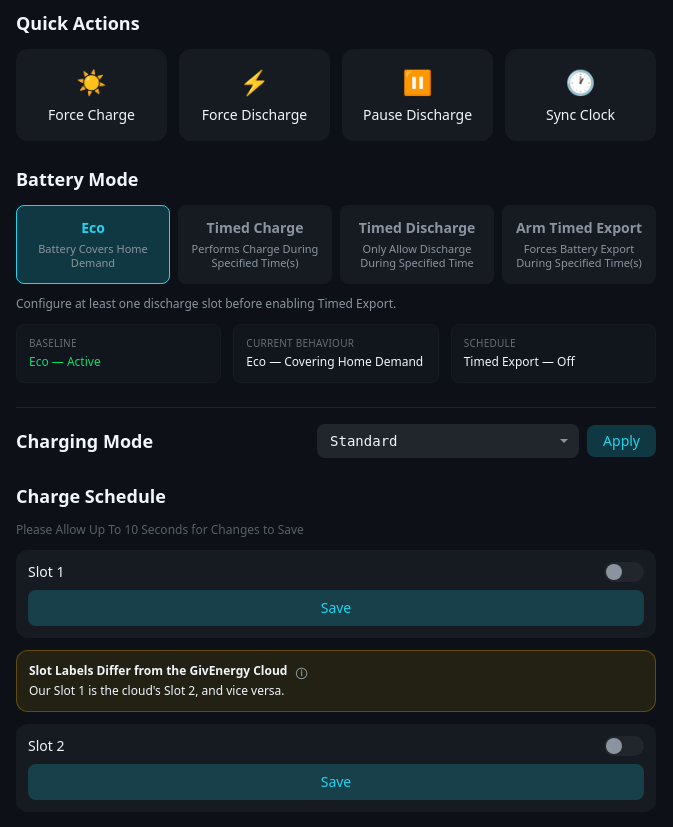
<ControlPage/> — Agile postcode lookup › reports a postcode whose area maps to no Octopus region
Select "Agile (Full)" in the dropdown at (448, 441), box [317,424,579,458]
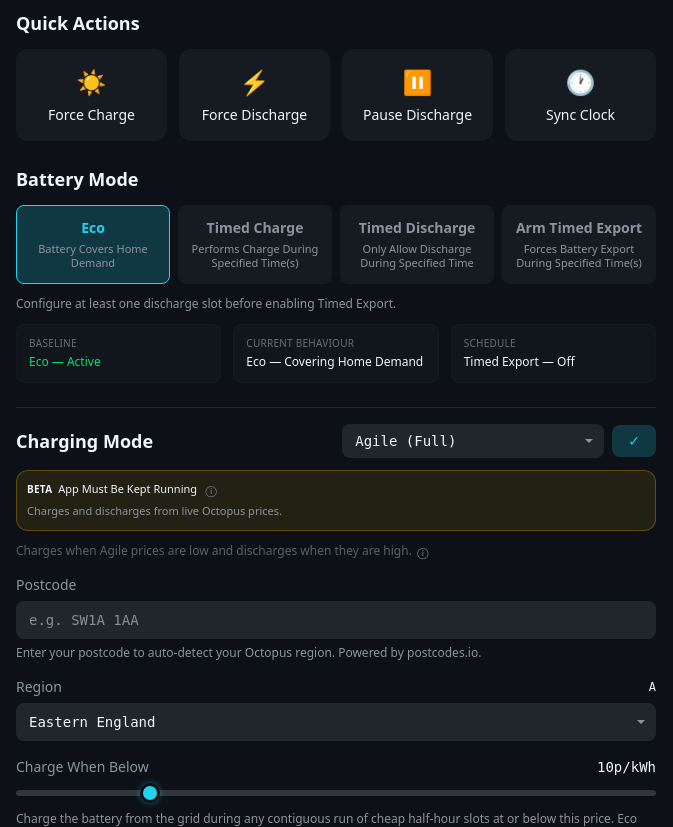
Type "ZZ9 9ZZ" into the field with placeholder "e.g. SW1A 1AA" at (336, 620), box [16,601,656,639]
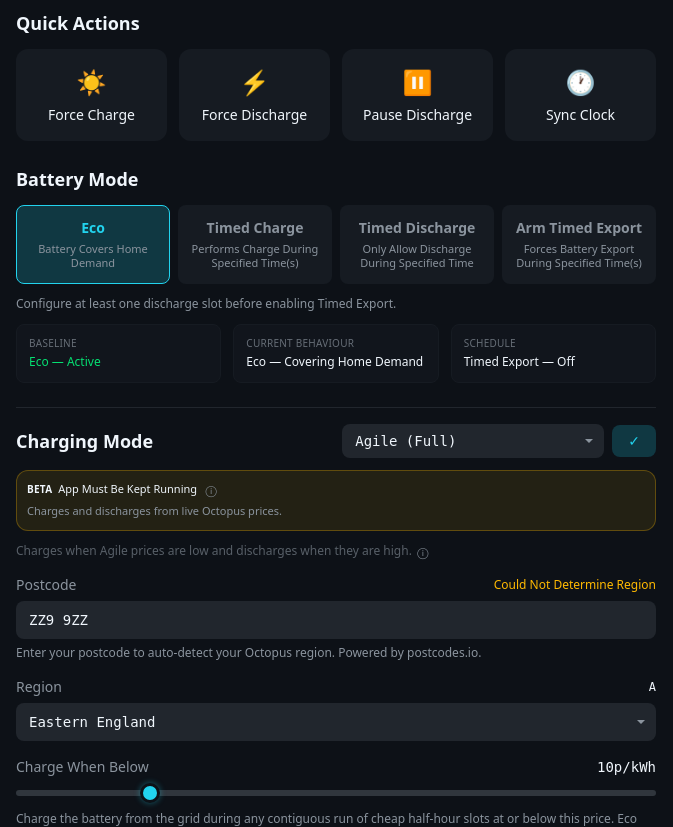
Result: the text "Could Not Determine Region" is shown at [494,577,656,593]
